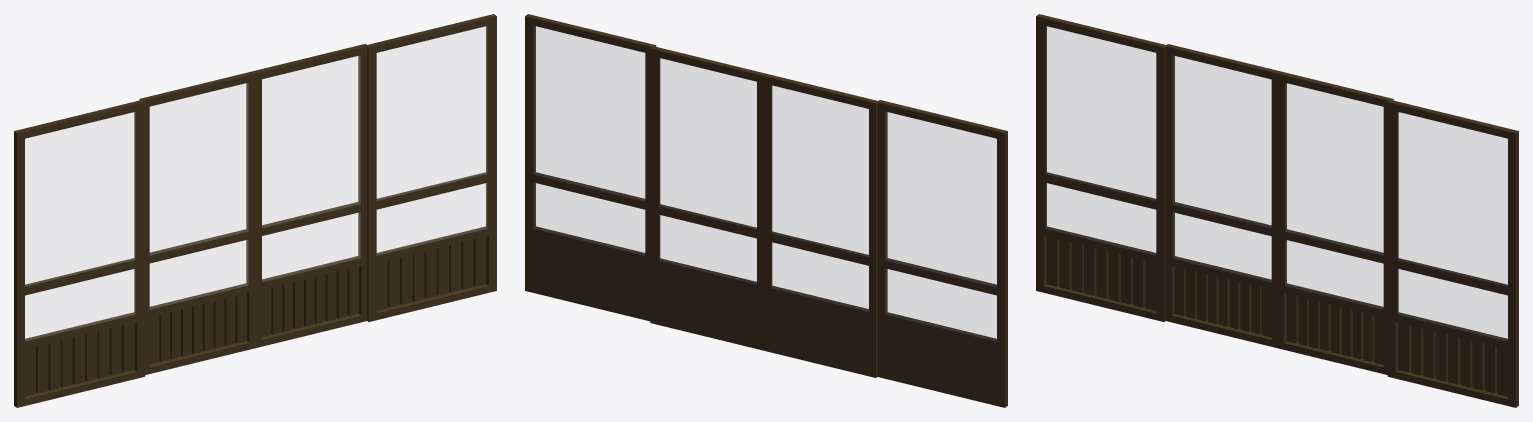
File: door.gltf
The picture shows the model from 3 angles, left to right: view 1: azimuth 30°, elevation 25°; view 2: azimuth 150°, elevation 25°; view 3: azimuth 330°, elevation 25°; orthographic projection.
Visible parts, largest first — view 1: top mirror.001 (×2), door frame.001 (×2), top mirror (×2), door frame (×2), bottom mirro.001 (×2), bottom mirro (×2); view 2: top mirror.001 (×2), door frame.001 (×2), top mirror (×2), door frame (×2), bottom mirro.001 (×2), bottom mirro (×2); view 3: top mirror.001 (×2), door frame.001 (×2), top mirror (×2), door frame (×2), bottom mirro.001 (×2), bottom mirro (×2).
Part boxes in pixels (x1=…): top mirror.001 (×2): x1=25, y1=26, x2=486, y2=286; door frame.001 (×2): x1=14, y1=14, x2=496, y2=407; top mirror (×2): x1=150, y1=56, x2=360, y2=254; door frame (×2): x1=139, y1=44, x2=367, y2=374; bottom mirro.001 (×2): x1=25, y1=183, x2=486, y2=341; bottom mirro (×2): x1=150, y1=212, x2=360, y2=309; top mirror.001 (×2): x1=534, y1=26, x2=996, y2=286; door frame.001 (×2): x1=525, y1=14, x2=1007, y2=407; top mirror (×2): x1=659, y1=58, x2=868, y2=256; door frame (×2): x1=650, y1=46, x2=878, y2=377; bottom mirro.001 (×2): x1=534, y1=183, x2=996, y2=341; bottom mirro (×2): x1=659, y1=215, x2=868, y2=311; top mirror.001 (×2): x1=1046, y1=26, x2=1507, y2=286; door frame.001 (×2): x1=1036, y1=14, x2=1518, y2=407; top mirror (×2): x1=1173, y1=56, x2=1383, y2=254; door frame (×2): x1=1165, y1=44, x2=1393, y2=374; bottom mirro.001 (×2): x1=1046, y1=183, x2=1507, y2=341; bottom mirro (×2): x1=1173, y1=212, x2=1383, y2=309.
Size of the model in its own units: 8.45 by 4.62 by 0.1428.
